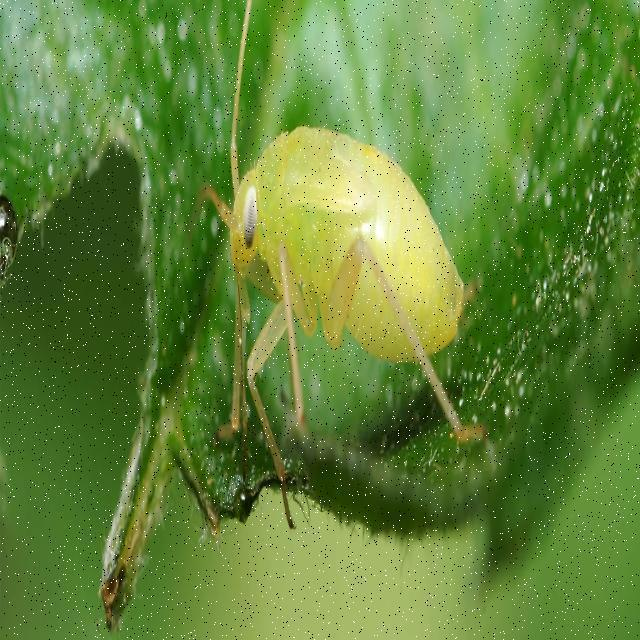Aphids: (167, 46, 499, 505)
